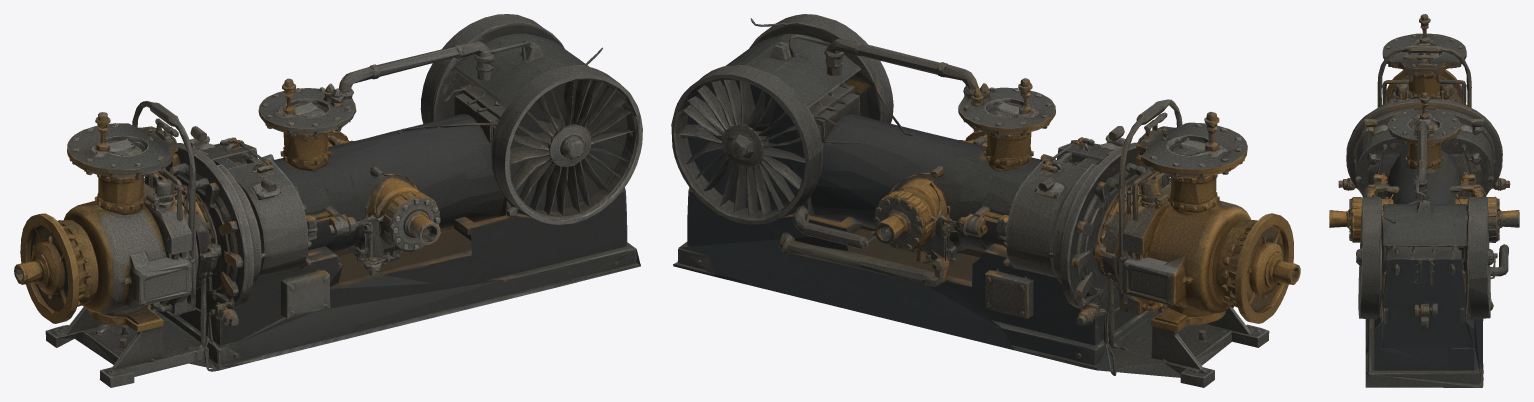
File: turbine.glb
The picture shows the model from 3 angles, left to right: view 1: azimuth 30°, elevation 25°; view 2: azimuth 150°, elevation 25°; view 3: azimuth 270°, elevation 25°; orthographic projection. The views are drawn at different scales.
Size of the model in its own units: 1.9 by 0.7647 by 0.6985.
1 material, 1 textured.
